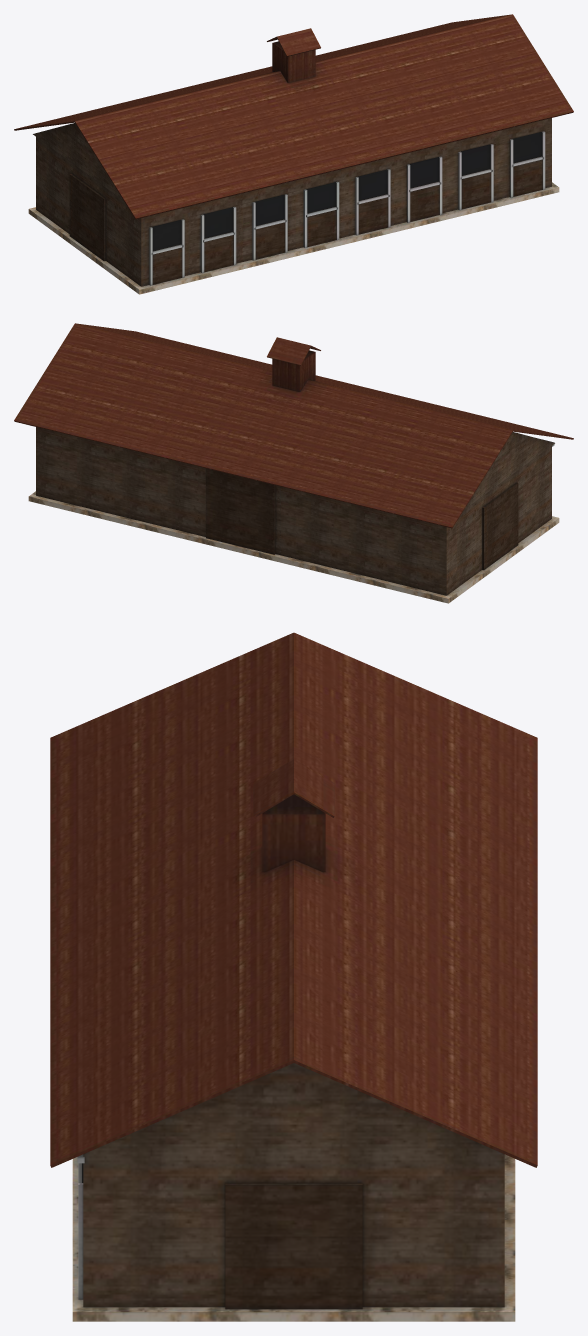
File: stable.glb
3 views of the same model, one above another, from view 1: azimuth 30°, elevation 25°; view 2: azimuth 150°, elevation 25°; view 3: azimuth 270°, elevation 25° (orthographic). The views are drawn at different scales.
Parts seen in each view (by area): view 1: stable; view 2: stable; view 3: stable.
Part boxes in pixels (x1=…): stable: x1=14, y1=14, x2=573, y2=294; stable: x1=14, y1=323, x2=573, y2=603; stable: x1=50, y1=632, x2=537, y2=1321.
Bounding box in the file's own units: 19.2 × 7.14 × 9.25.
1 material, 1 textured.
